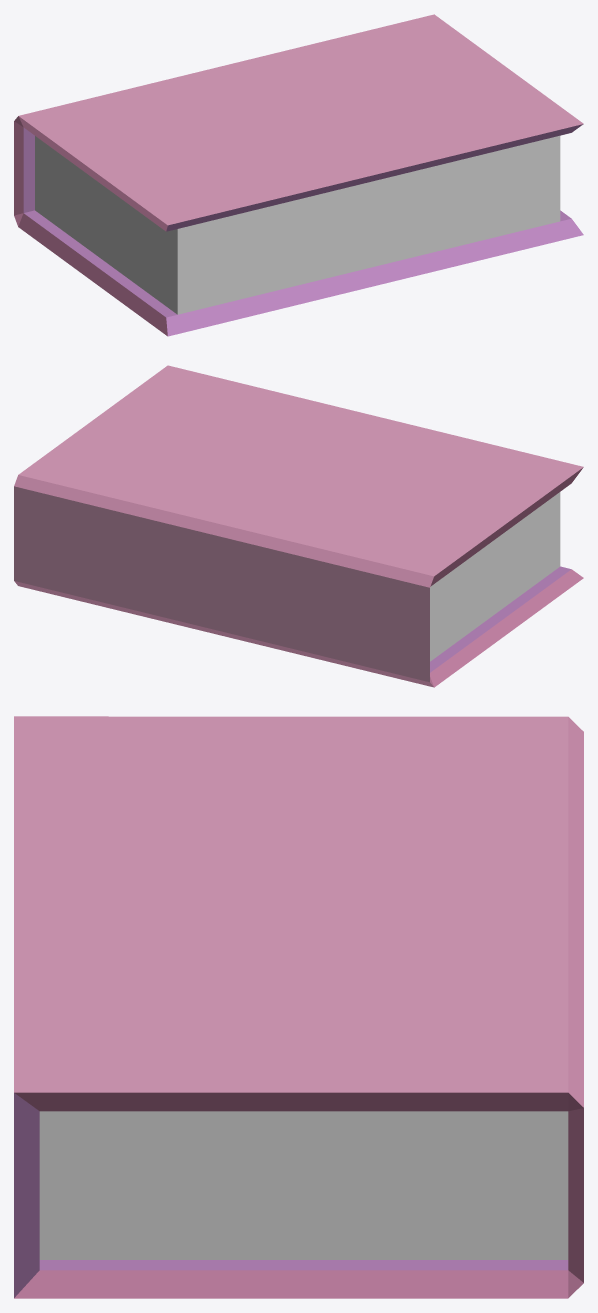
The model's file is book_4.fbx.
3 renders of one model, top to bottom at view 1: azimuth 30°, elevation 25°; view 2: azimuth 150°, elevation 25°; view 3: azimuth 270°, elevation 25°, orthographic. The views are drawn at different scales.
Visible parts, largest first — view 1: book_1.001; view 2: book_1.001; view 3: book_1.001.
Part boxes in pixels (x1=…): book_1.001: x1=14, y1=14, x2=583, y2=336; book_1.001: x1=14, y1=365, x2=583, y2=687; book_1.001: x1=14, y1=716, x2=583, y2=1298.
Bounding box in the file's own units: 272 × 69.37 × 174.
